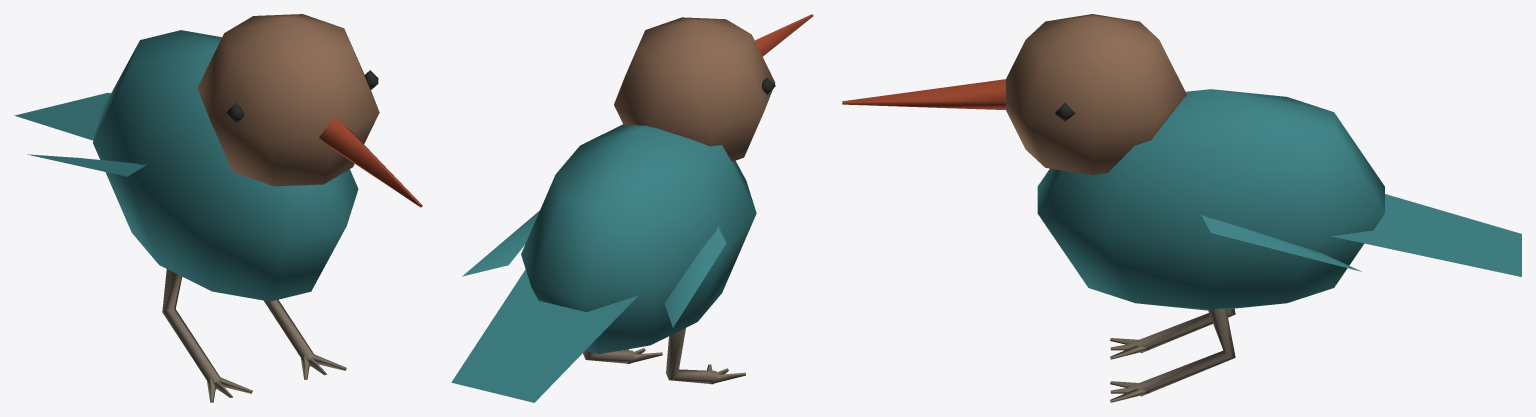
File: kingfisher-0.glb
The picture shows the model from 3 angles, left to right: view 1: azimuth 30°, elevation 25°; view 2: azimuth 150°, elevation 25°; view 3: azimuth 270°, elevation 25°; orthographic projection. The views are drawn at different scales.
Visible parts, largest first — view 1: kingfisher; view 2: kingfisher; view 3: kingfisher.
Boxes of the visible parts, x1=… form: kingfisher: x1=14, y1=14, x2=422, y2=402; kingfisher: x1=451, y1=14, x2=813, y2=402; kingfisher: x1=842, y1=14, x2=1521, y2=402.
Bounding box in the file's own units: 0.142 × 0.2163 × 0.3721.
